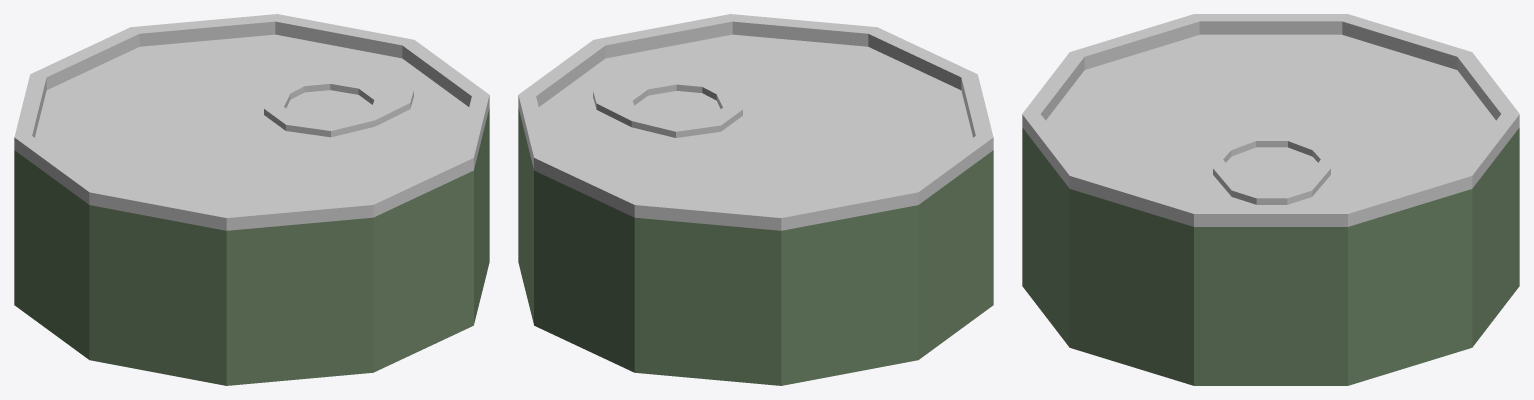
File: Ma_Canned_Big_2.fbx
3 views of the same model, side by side, from view 1: azimuth 30°, elevation 25°; view 2: azimuth 150°, elevation 25°; view 3: azimuth 270°, elevation 25° (orthographic). The views are drawn at different scales.
Visible parts, largest first — view 1: Ma_Canned_Big_2; view 2: Ma_Canned_Big_2; view 3: Ma_Canned_Big_2.
Boxes of the visible parts, x1,y1,x2,y2 form: Ma_Canned_Big_2: (14,14,489,385); Ma_Canned_Big_2: (518,14,993,385); Ma_Canned_Big_2: (1022,14,1519,385).
Bounding box in the file's own units: 129 × 136 × 51.81.
